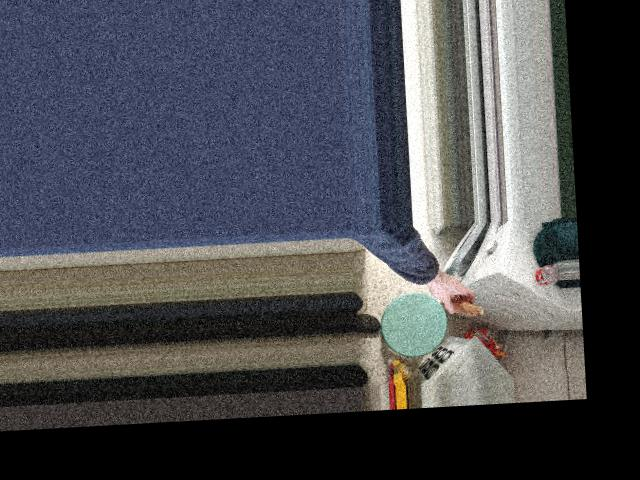sweet_potato: (429, 286, 483, 317)
